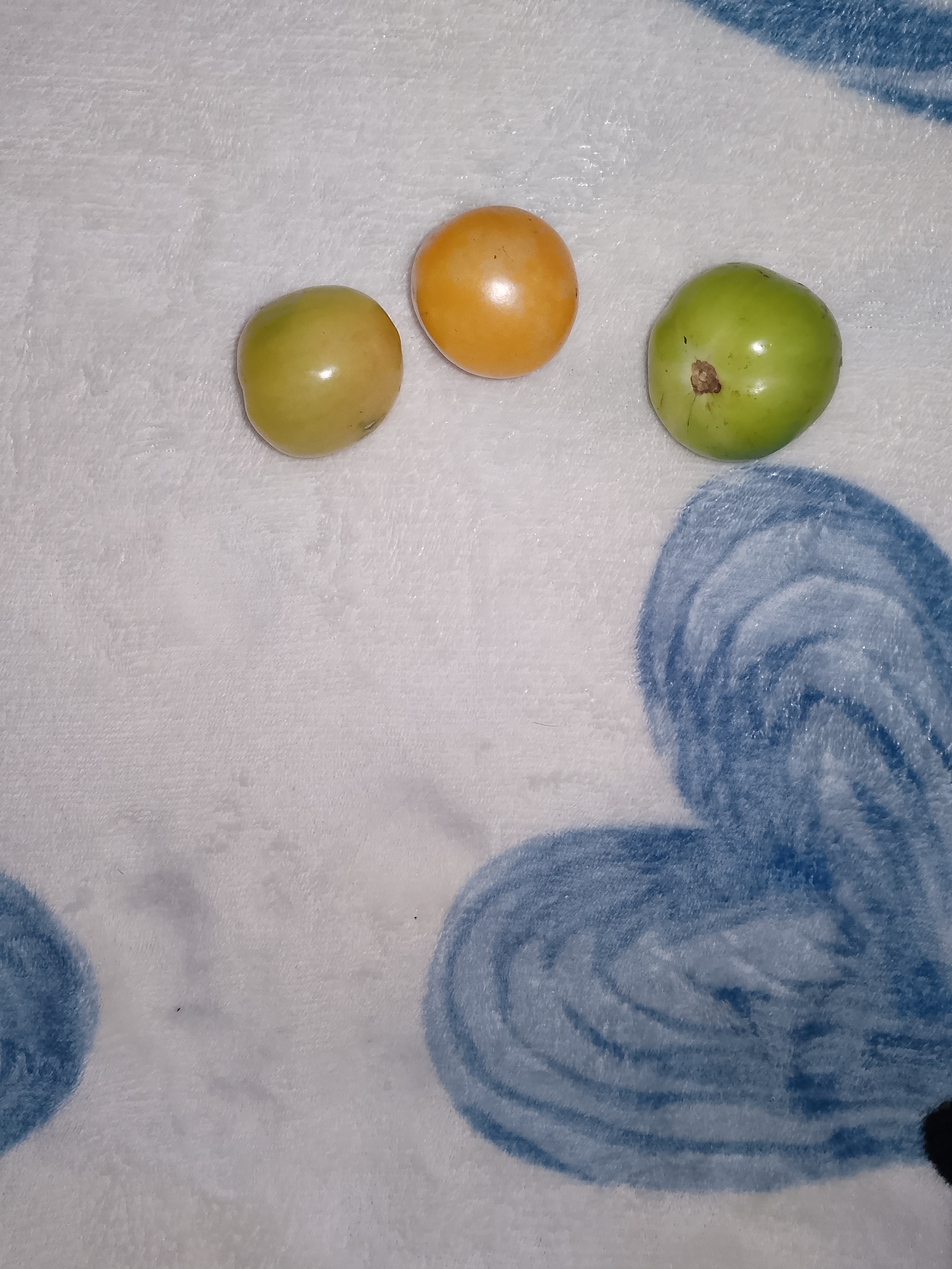Unripe: (623, 218, 870, 488), (379, 140, 613, 379), (151, 270, 410, 480)
